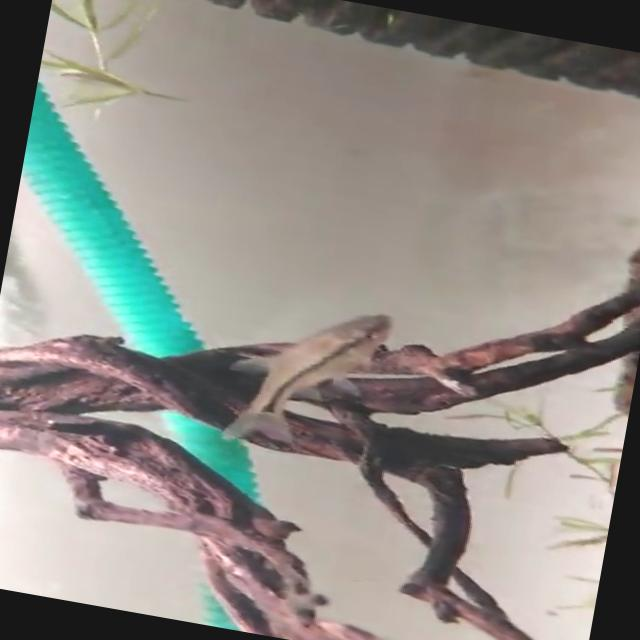Cakil Baligi: (198, 284, 402, 466)
